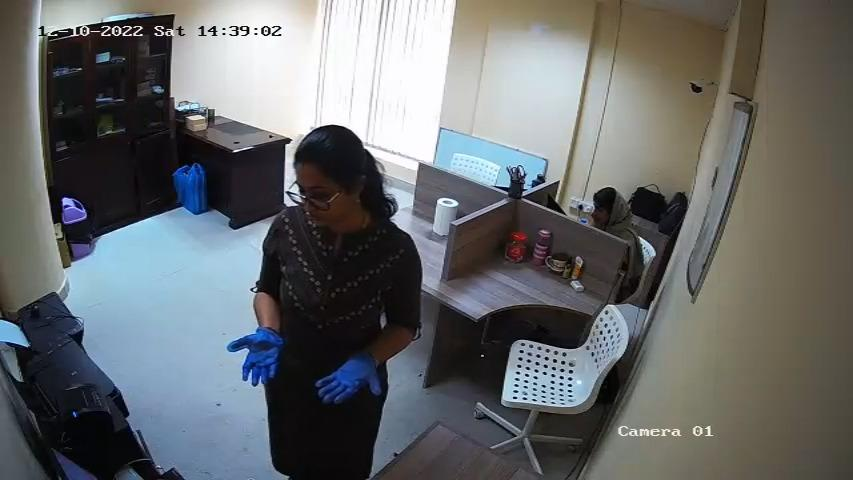gloves: (310, 352, 390, 411), (224, 328, 287, 385)
